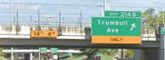1: (32, 29, 38, 38)
4: (35, 29, 41, 37), (47, 30, 52, 37)
overheadsign: (29, 28, 58, 39)
